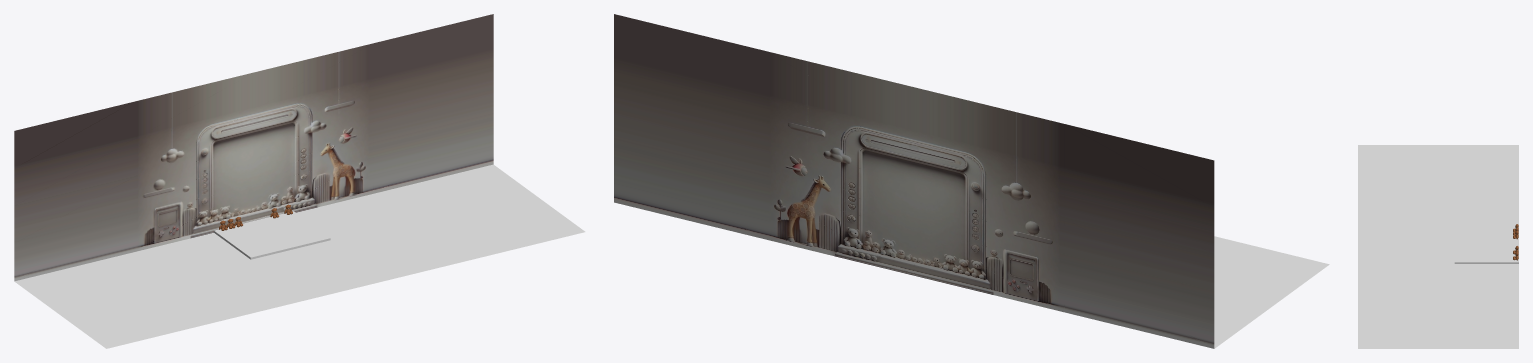
Rendered from floor.glb.
3 views of the same model, side by side, from view 1: azimuth 30°, elevation 25°; view 2: azimuth 150°, elevation 25°; view 3: azimuth 270°, elevation 25° (orthographic). The views are drawn at different scales.
Parts seen in each view (by area): view 1: floor.001, floor; view 2: floor.001, floor; view 3: floor.
Part boxes in pixels (x1,y1,x2,y2): floor.001: (14, 14, 493, 281); floor: (14, 164, 585, 348); floor.001: (614, 14, 1214, 348); floor: (1214, 236, 1329, 348); floor: (1358, 145, 1518, 348).
Size of the model in its own units: 60 by 18 by 20.
28 materials, 1 textured.
